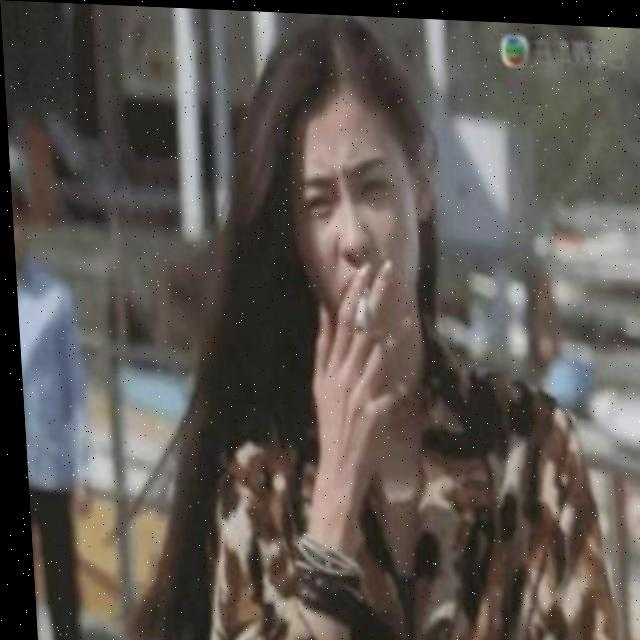cigarette: (349, 276, 370, 332)
